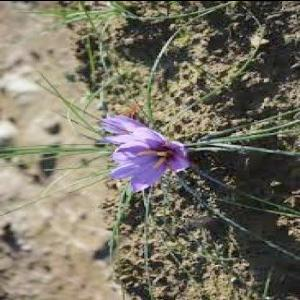Saffron: (112, 124, 189, 188)
